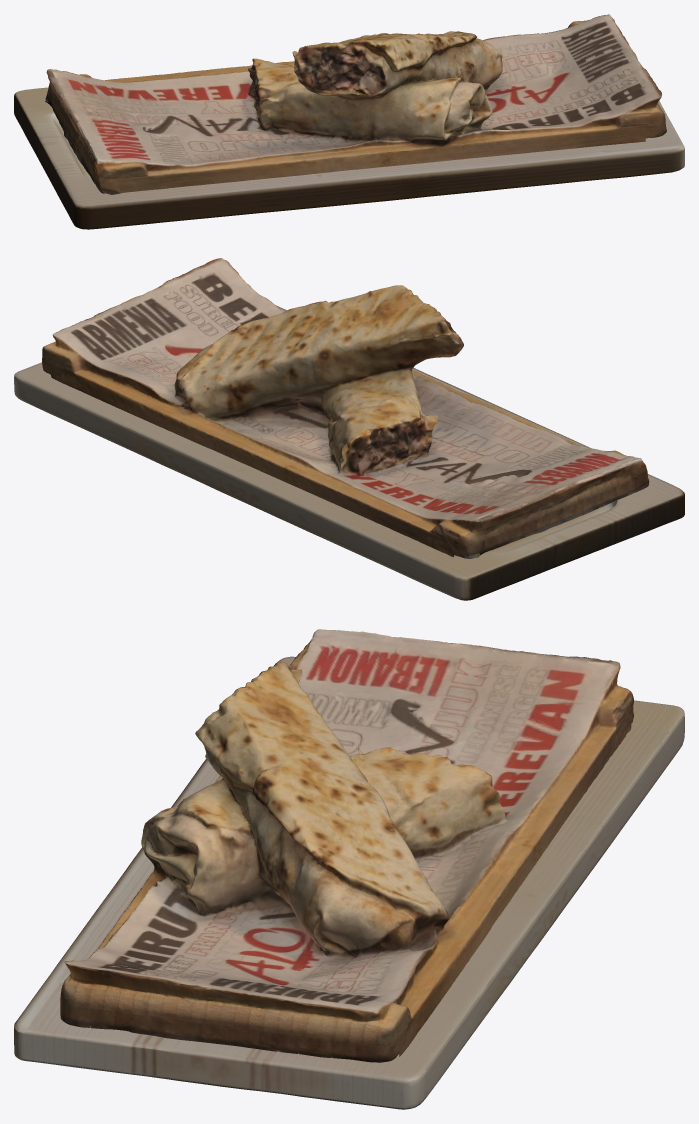
File: beef.shawerma.glb
The picture shows the model from 3 angles, top to bottom: view 1: azimuth 30°, elevation 25°; view 2: azimuth 150°, elevation 25°; view 3: azimuth 270°, elevation 25°; orthographic projection. The views are drawn at different scales.
Parts seen in each view (by area): view 1: /Root/Scenes/Scene/Object_37/Object_38/Submesh_0, /Root/Scenes/Scene/Object_37/Object_41/Object_42/Submesh_0; view 2: /Root/Scenes/Scene/Object_37/Object_38/Submesh_0, /Root/Scenes/Scene/Object_37/Object_41/Object_42/Submesh_0; view 3: /Root/Scenes/Scene/Object_37/Object_38/Submesh_0, /Root/Scenes/Scene/Object_37/Object_41/Object_42/Submesh_0.
Part boxes in pixels (x1,y1,x2,y2): /Root/Scenes/Scene/Object_37/Object_38/Submesh_0: (45,14,666,194); /Root/Scenes/Scene/Object_37/Object_41/Object_42/Submesh_0: (14,87,684,229); /Root/Scenes/Scene/Object_37/Object_38/Submesh_0: (42,258,649,558); /Root/Scenes/Scene/Object_37/Object_41/Object_42/Submesh_0: (14,305,684,600); /Root/Scenes/Scene/Object_37/Object_38/Submesh_0: (60,629,633,1062); /Root/Scenes/Scene/Object_37/Object_41/Object_42/Submesh_0: (14,656,684,1109).
Bounding box in the file's own units: 0.3634 × 0.0794 × 0.2425.
Materials: 2 (2 with a texture image).
